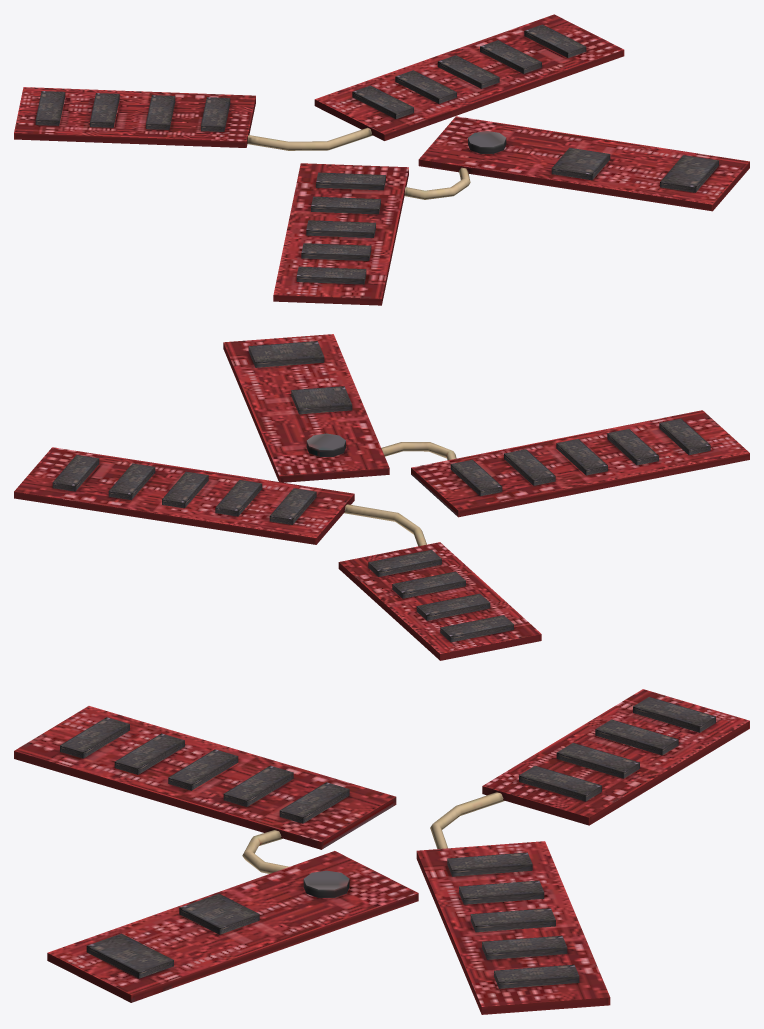
The model's file is electrical_scraps03.DAE.
3 renders of one model, top to bottom at view 1: azimuth 30°, elevation 25°; view 2: azimuth 150°, elevation 25°; view 3: azimuth 270°, elevation 25°, orthographic. The views are drawn at different scales.
Visible parts, largest first — view 1: Box046; view 2: Box046; view 3: Box046.
Boxes of the visible parts, left/top/right/bottom form: Box046: left=14, top=14, right=749, bottom=305; Box046: left=14, top=334, right=749, bottom=660; Box046: left=14, top=689, right=749, bottom=1014.
Bounding box in the file's own units: 19.1 × 0.532 × 18.68.
